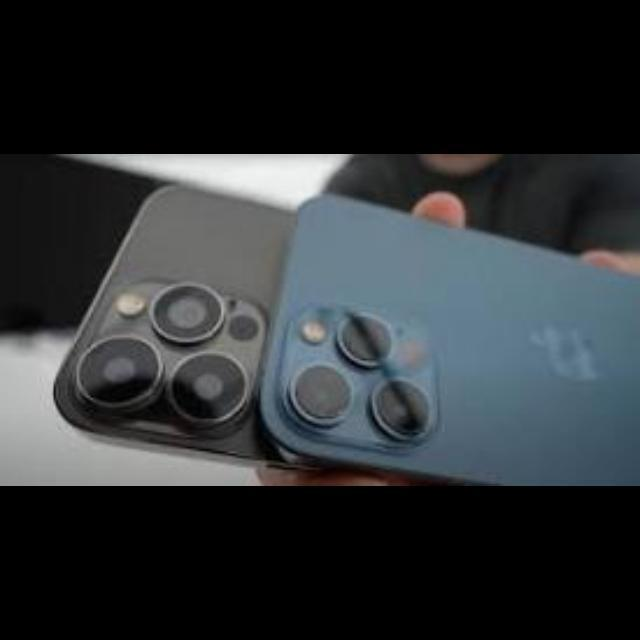phone: (74, 152, 640, 494)
